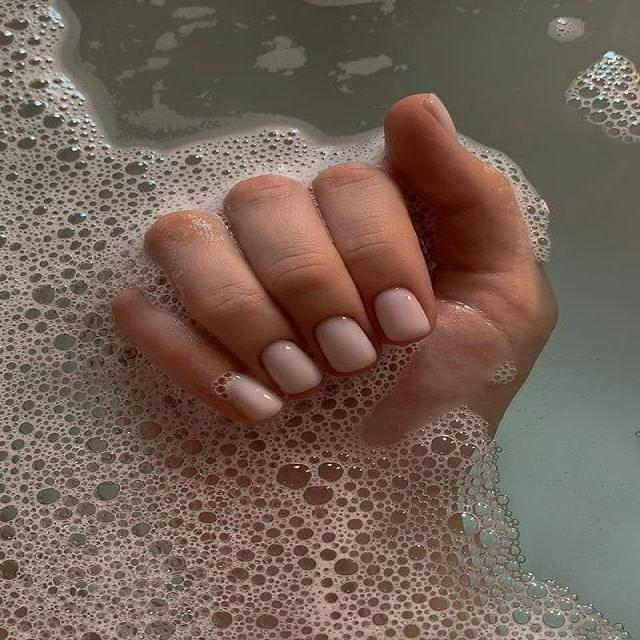Fingernail: (316, 317, 375, 372), (262, 341, 320, 393), (375, 288, 430, 340), (223, 375, 281, 419), (427, 92, 460, 144)
